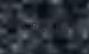five: (58, 21, 67, 35)
nine: (28, 18, 37, 33)
one: (48, 20, 57, 35)
six: (18, 17, 27, 32)
two: (38, 19, 47, 34)
